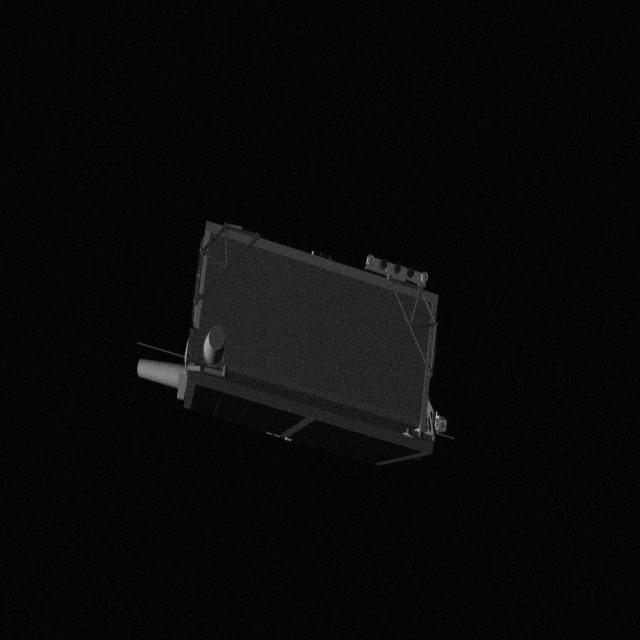satellite: (130, 214, 454, 470)
